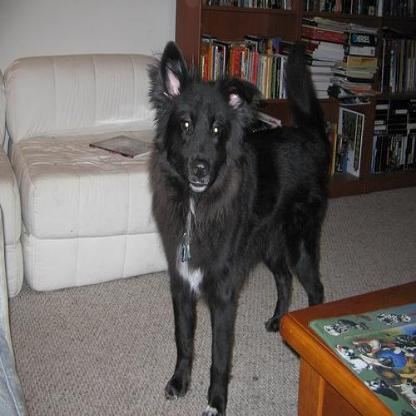collie: (144, 36, 334, 414)
